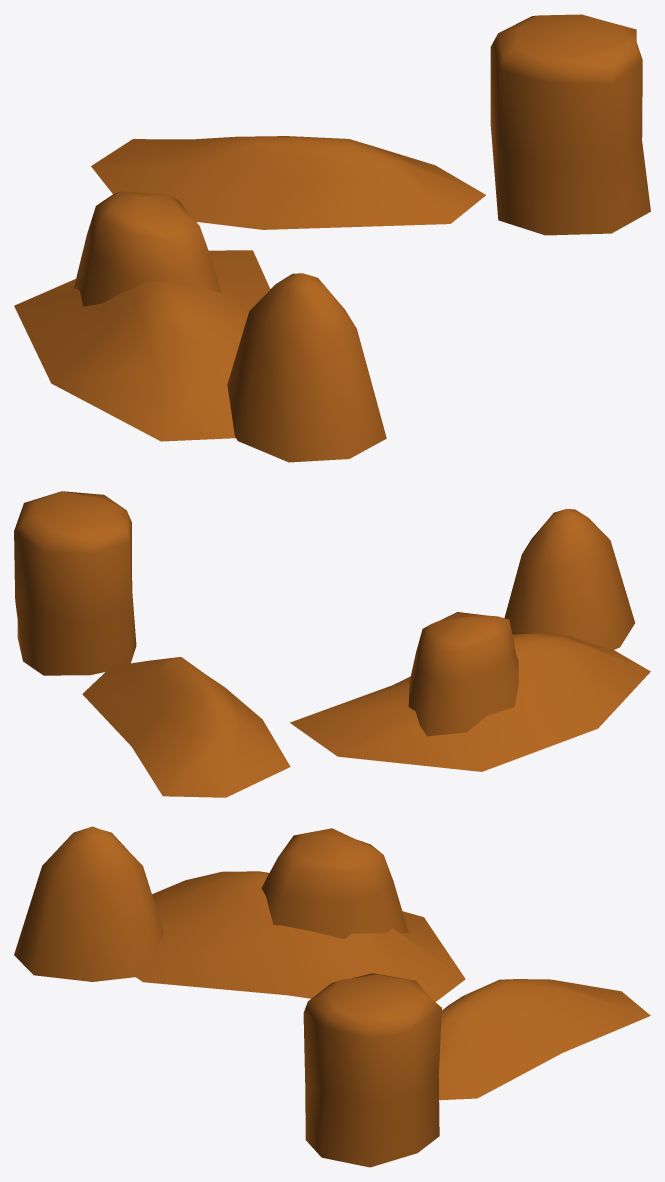
File: SandPiles001.FBX
3 renders of one model, top to bottom at view 1: azimuth 30°, elevation 25°; view 2: azimuth 150°, elevation 25°; view 3: azimuth 270°, elevation 25°, orthographic. The views are drawn at different scales.
Parts seen in each view (by area): view 1: Box002; view 2: Box002; view 3: Box002.
Boxes of the visible parts, x1,y1,x2,y2 form: Box002: (14, 14, 650, 462); Box002: (14, 491, 650, 797); Box002: (14, 826, 650, 1167).
Bounding box in the file's own units: 95.28 × 24.69 × 96.02.
